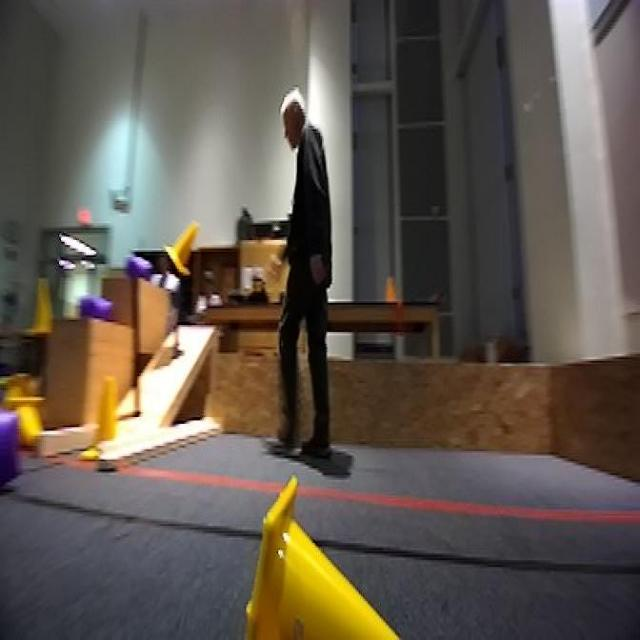frc_cone: (238, 468, 431, 640), (85, 374, 120, 462), (163, 222, 204, 278), (17, 391, 46, 446), (27, 274, 54, 332), (2, 368, 38, 400)
frc_cube: (0, 407, 21, 482), (79, 290, 117, 318), (121, 252, 151, 281)
